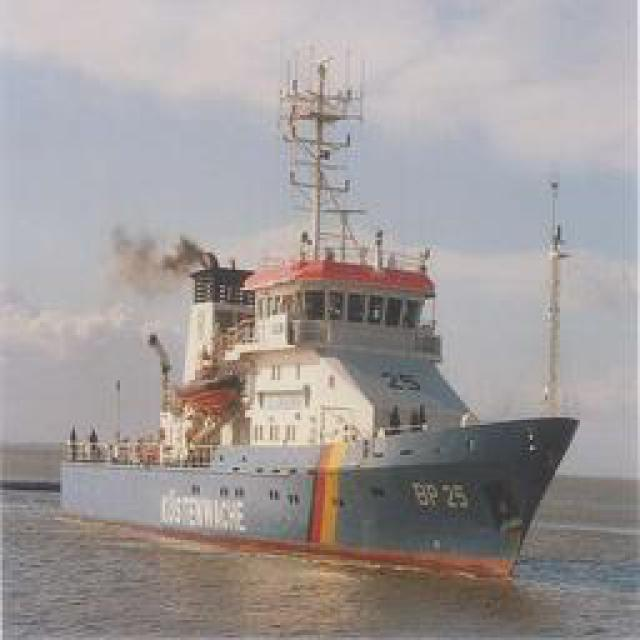Ship: (99, 33, 574, 591)
